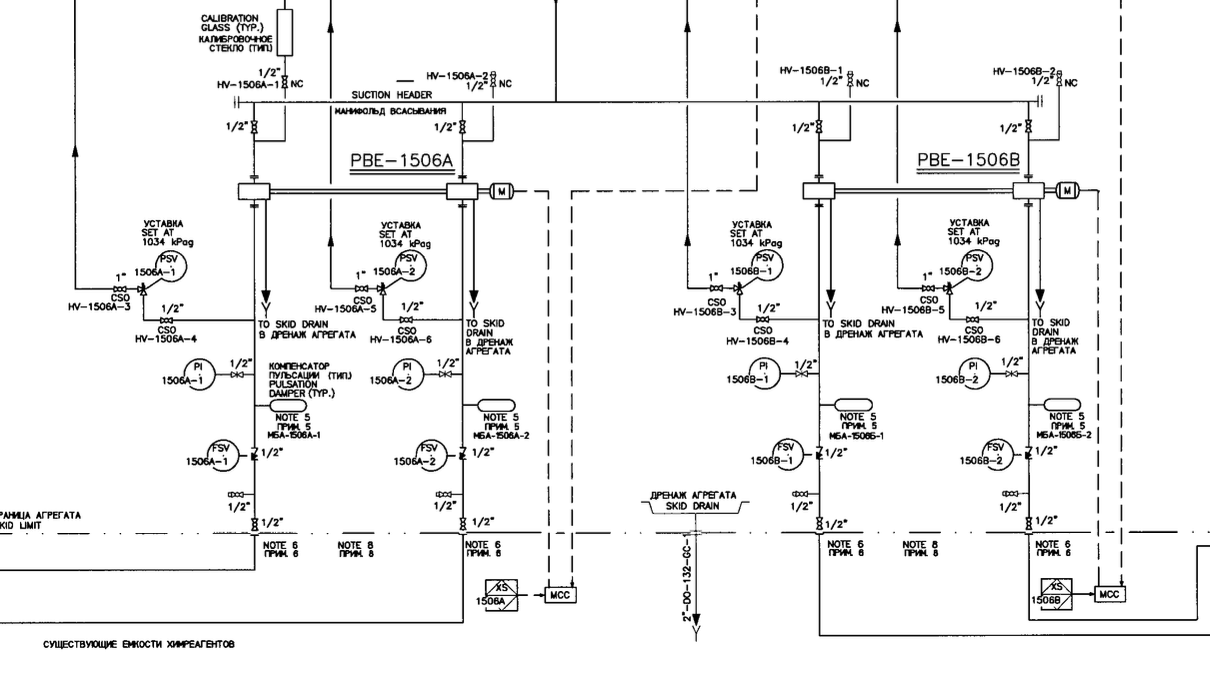Instrument-offset: (957, 429, 1016, 476), (749, 428, 808, 472), (721, 353, 784, 394), (937, 351, 995, 395), (394, 430, 449, 475), (370, 352, 427, 395), (163, 350, 218, 392), (371, 248, 431, 285), (938, 246, 997, 283), (727, 248, 791, 282), (189, 433, 241, 473), (132, 249, 190, 284)
Instrument-square-offset: (475, 574, 524, 618), (1032, 573, 1077, 615)
